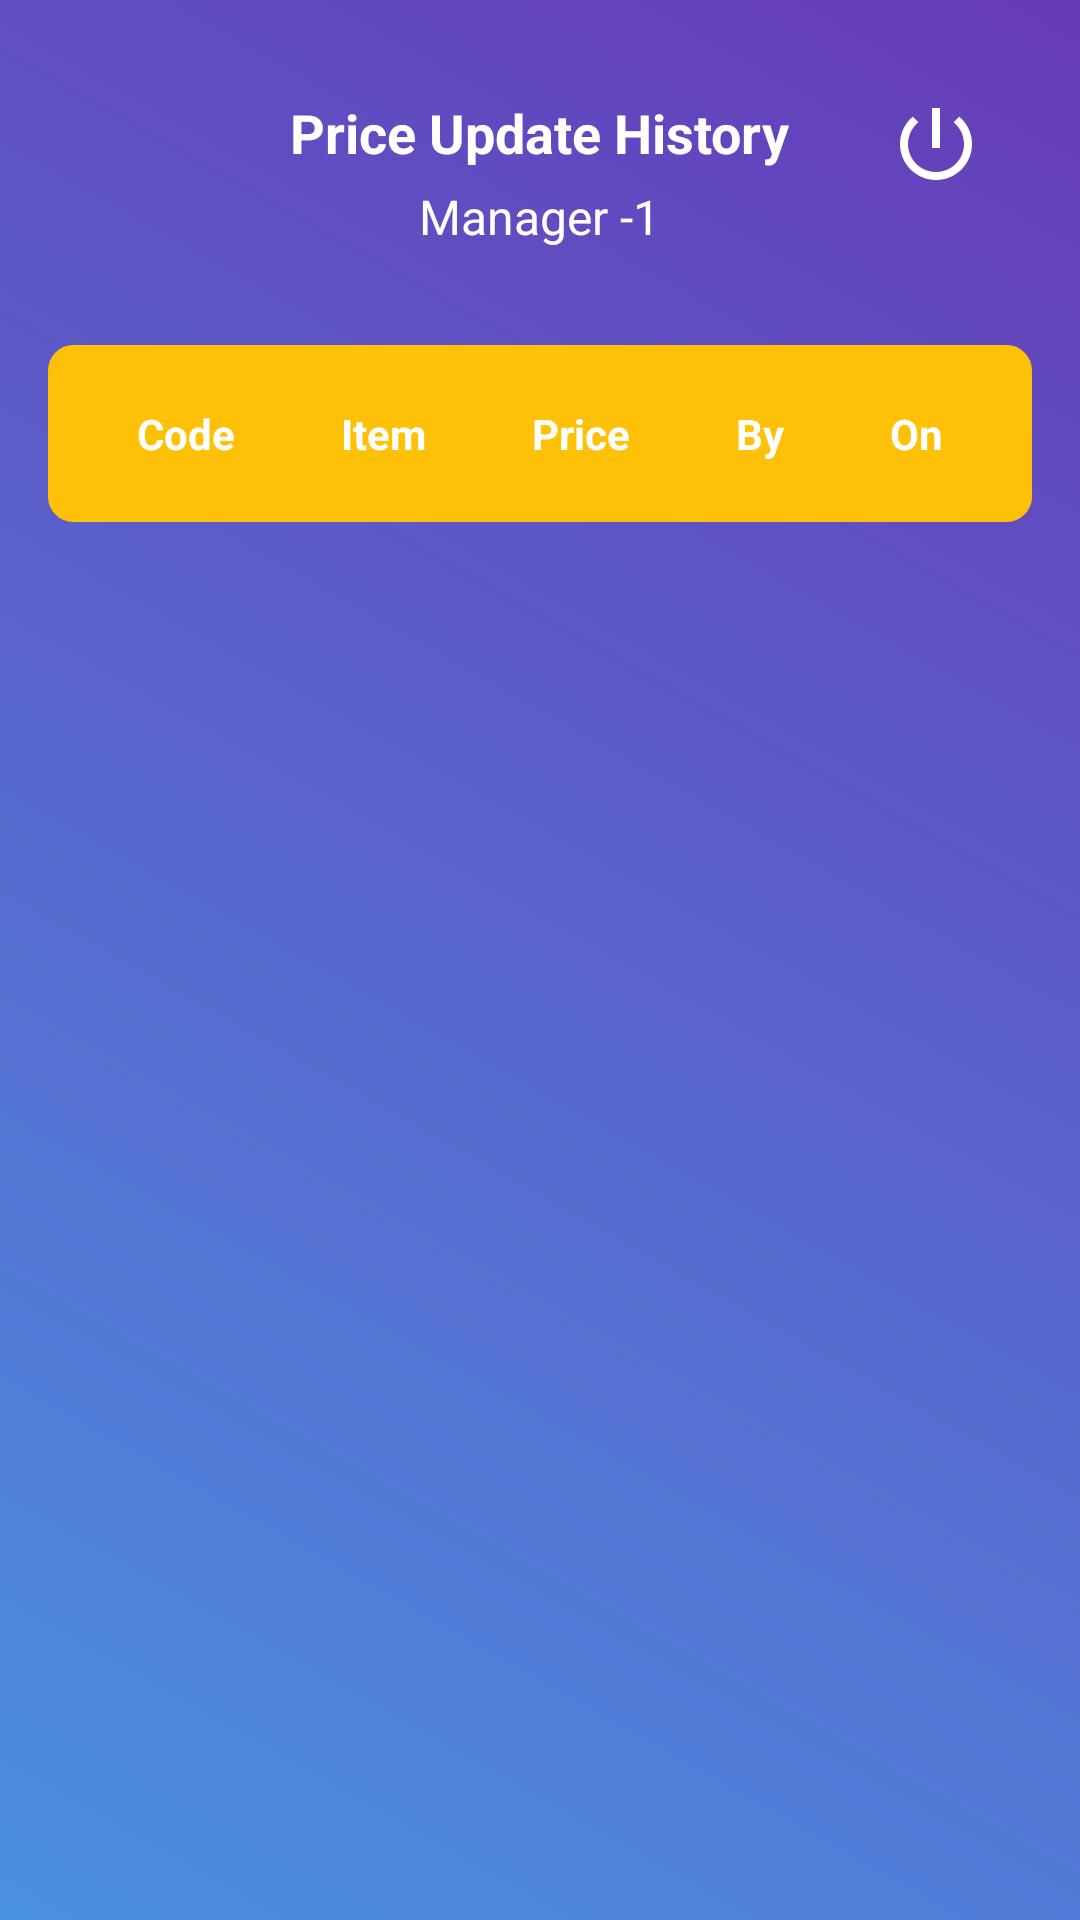

Screen size 1080px×1920px. Icon name, then its box in pixels as [left=x1, top=y1, right=x2, bottom=y2]:
power: [left=900, top=108, right=972, bottom=180]
